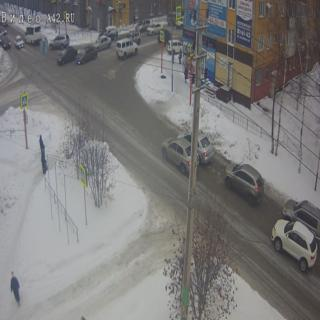large-vehicle: (25, 28, 40, 44)
small-vehicle: (273, 222, 319, 270), (284, 198, 320, 242), (225, 164, 264, 203), (163, 137, 196, 173), (180, 129, 213, 163), (116, 40, 138, 58), (76, 47, 97, 64), (58, 46, 78, 63), (168, 38, 185, 55), (100, 25, 118, 41), (49, 35, 69, 49), (94, 36, 111, 50), (147, 22, 164, 35), (168, 13, 184, 26), (127, 30, 141, 44), (135, 20, 150, 33), (14, 32, 24, 48), (0, 37, 12, 48)
